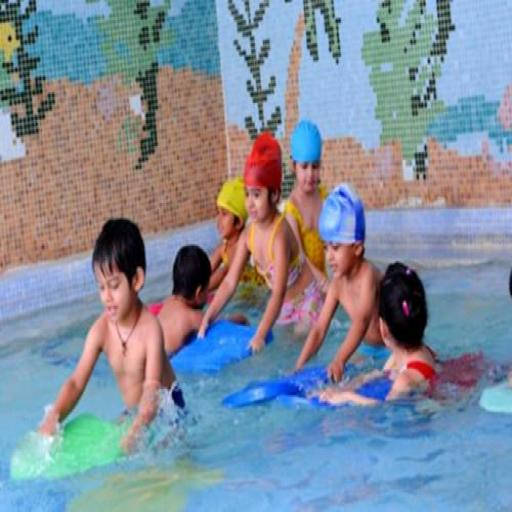swimming: (37, 216, 187, 462), (312, 260, 510, 414), (194, 131, 326, 358), (289, 181, 390, 389)
